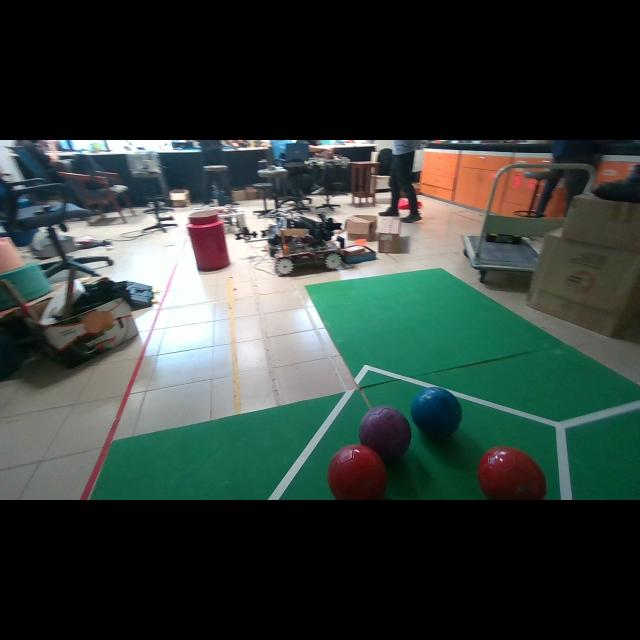B: (410, 386, 462, 438)
P: (359, 406, 411, 461)
R: (478, 446, 546, 499), (328, 445, 388, 500)
